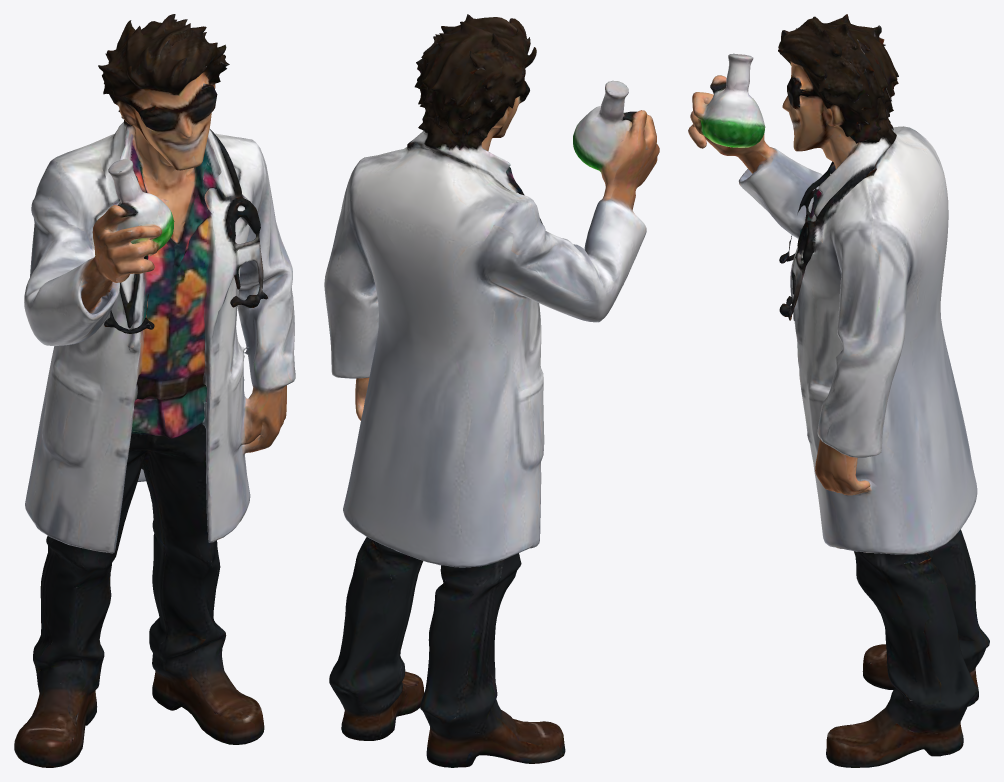
The model's file is medic.glb.
3 views of the same model, side by side, from view 1: azimuth 30°, elevation 25°; view 2: azimuth 150°, elevation 25°; view 3: azimuth 270°, elevation 25° (orthographic). The views are drawn at different scales.
Size of the model in its own units: 0.36 by 0.9067 by 0.3532.
1 material, 1 textured.
